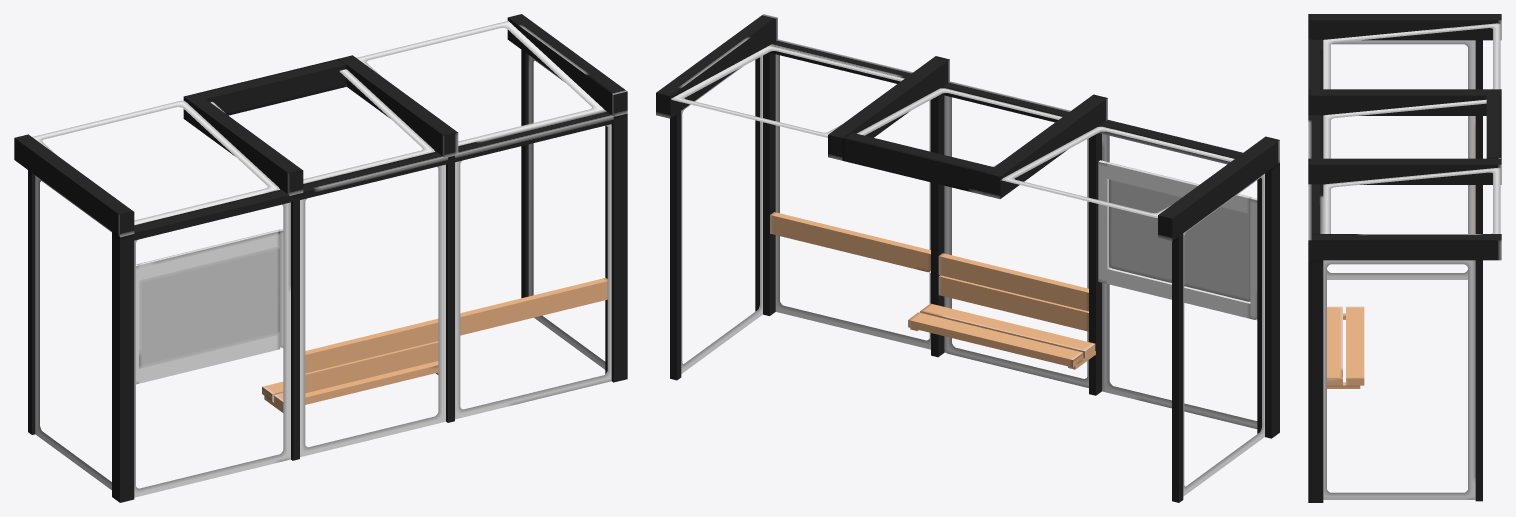
Rendered from nl_bus_shelter_large.obj.
3 views of the same model, side by side, from view 1: azimuth 30°, elevation 25°; view 2: azimuth 150°, elevation 25°; view 3: azimuth 270°, elevation 25° (orthographic). The views are drawn at different scales.
Parts seen in each view (by area): view 1: a, 4, b, 1, 3, 2, g3, g2, f, l, g4, tt (+10 smaller); view 2: a, 4, 1, b, 3, 2, l, f, tt, 4f, 1f, tb (+12 smaller); view 3: 1, g1, 2, 4, 3, g5, b, 1f, gt3, gt1, bf, bb (+3 smaller).
Boxes of the visible parts, x1,y1,x2,y2 form: a: [139, 246, 279, 368]; 4: [14, 134, 134, 502]; b: [134, 110, 613, 383]; 1: [507, 14, 627, 382]; 3: [183, 93, 303, 460]; 2: [338, 55, 458, 422]; g3: [300, 164, 445, 457]; g2: [455, 124, 611, 419]; f: [198, 58, 346, 115]; l: [277, 228, 607, 349]; g4: [134, 202, 290, 497]; tt: [305, 318, 438, 373]; a: [1109, 179, 1250, 301]; 4: [1158, 136, 1279, 438]; 1: [656, 14, 777, 315]; b: [769, 39, 1250, 318]; 3: [986, 94, 1107, 395]; 2: [828, 56, 949, 357]; l: [770, 160, 1109, 283]; f: [842, 132, 993, 195]; tt: [938, 253, 1088, 311]; 4f: [1172, 233, 1183, 502]; 1f: [670, 111, 681, 380]; tb: [938, 275, 1088, 331]; 1: [1308, 234, 1501, 502]; g1: [1323, 260, 1475, 499]; 2: [1308, 158, 1501, 184]; 4: [1308, 14, 1501, 40]; 3: [1308, 89, 1501, 115]; g5: [1327, 40, 1475, 279]; b: [1308, 39, 1323, 233]; 1f: [1475, 260, 1482, 501]; gt3: [1323, 23, 1500, 89]; gt1: [1323, 167, 1500, 233]; bf: [1346, 306, 1364, 385]; bb: [1327, 306, 1342, 385].
Bounding box in the file's own units: 4.5 × 2.44 × 1.62.
Materials: 1 (1 with a texture image).
